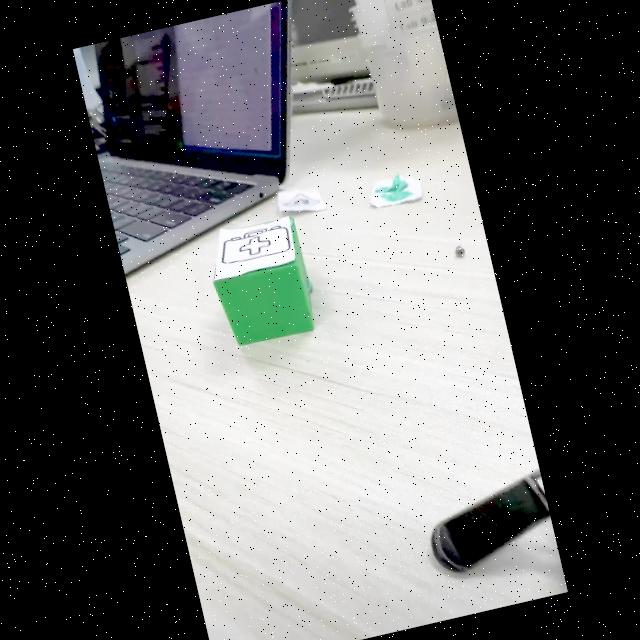Medkit: (218, 224, 290, 267)
